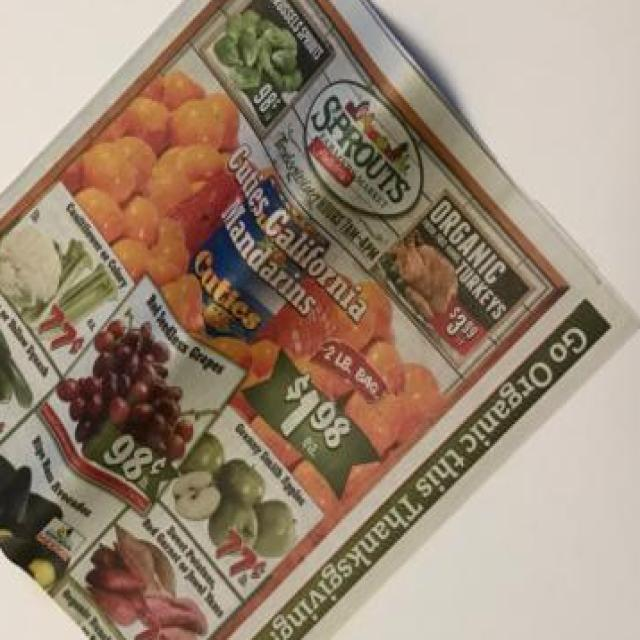organic: (5, 8, 622, 602)
